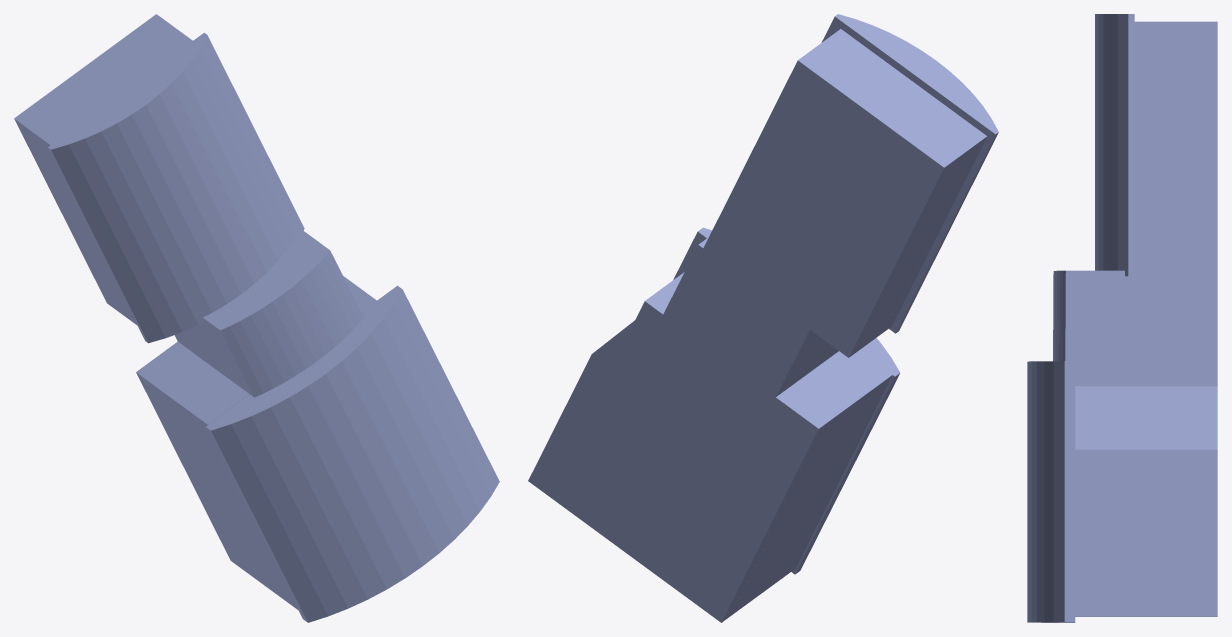
3 views of the same model, side by side, from view 1: azimuth 30°, elevation 25°; view 2: azimuth 150°, elevation 25°; view 3: azimuth 270°, elevation 25° (orthographic). The views are drawn at different scales.
Visible parts, largest first — view 1: LT1,LT2; view 2: LT1,LT2; view 3: LT1,LT2.
Boxes of the visible parts, box(x1,y1,x2,y2) form: LT1,LT2: box(14, 14, 499, 622); LT1,LT2: box(528, 14, 998, 622); LT1,LT2: box(1027, 14, 1217, 622).
Bounding box in the file's own units: 33.18 × 44.22 × 13.25.
